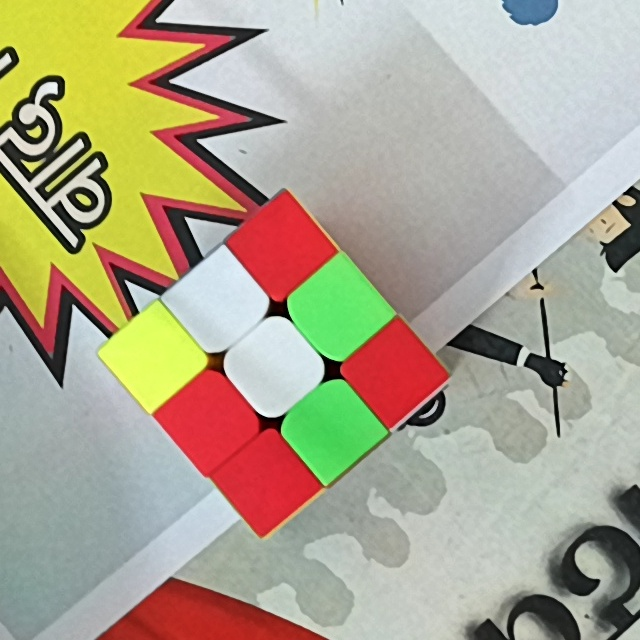tile: (249, 336, 304, 397), (304, 403, 365, 454), (243, 449, 293, 510), (128, 330, 181, 387), (254, 222, 306, 277), (191, 276, 246, 328), (315, 282, 365, 338), (374, 341, 419, 400), (189, 391, 235, 448)
